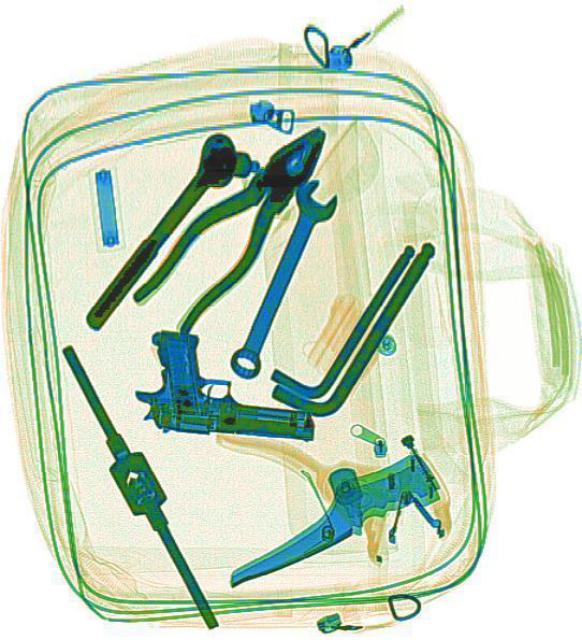Gun: (131, 327, 318, 441)
Pliers: (124, 105, 350, 343)
Wrench: (224, 170, 340, 384)
